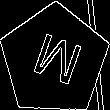M_S: (25, 28, 84, 92)
